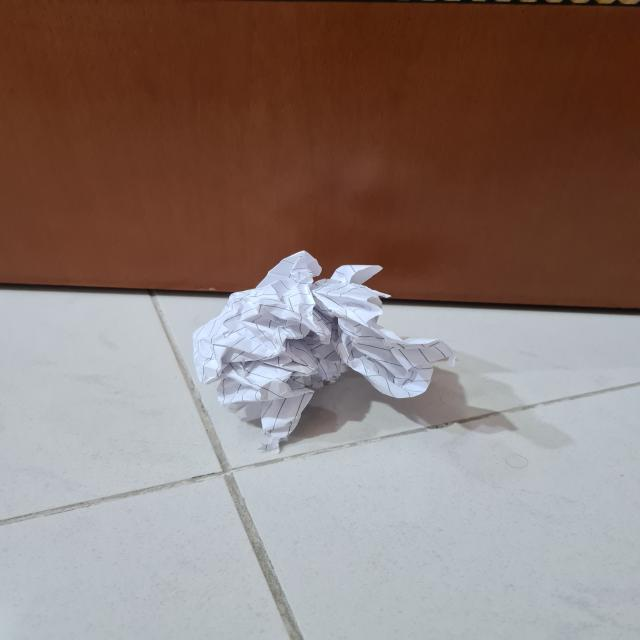Paper: (201, 249, 453, 449)
